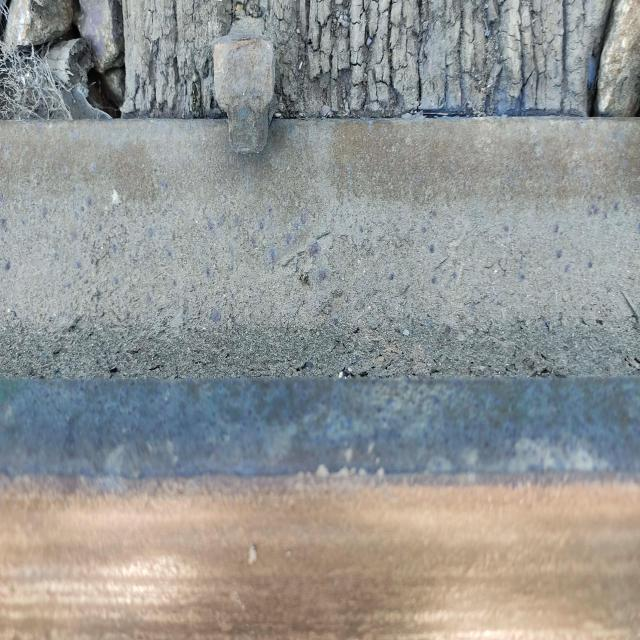Good Fasteners: (213, 18, 275, 153)
